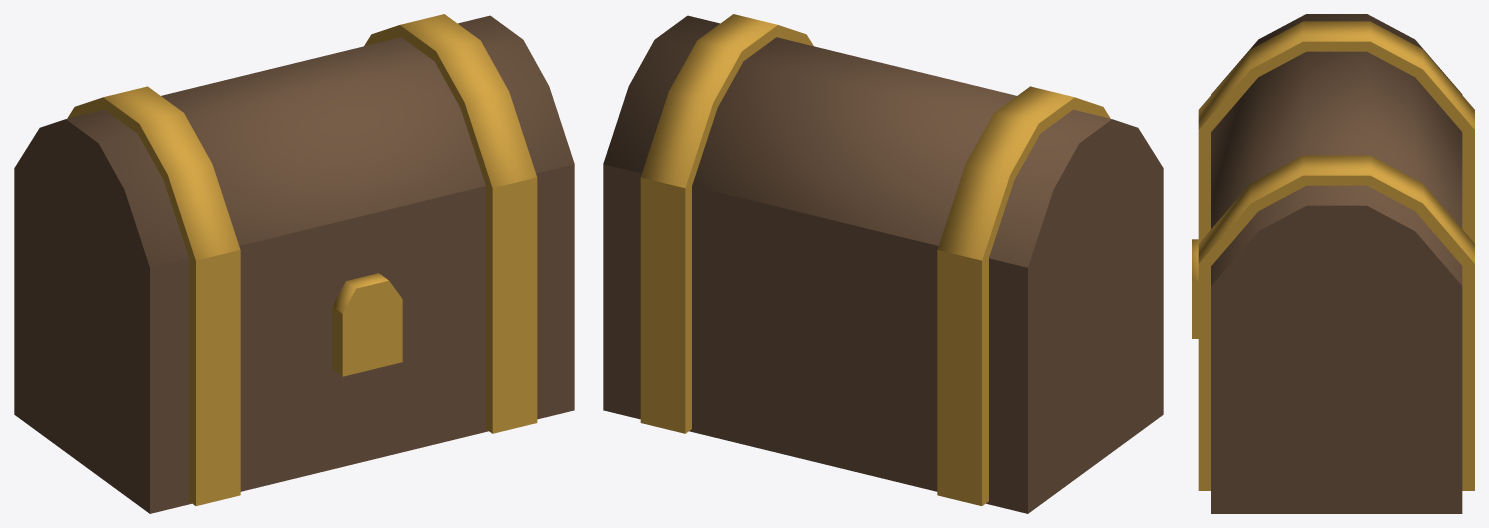
Rendered from chest.gltf.
3 views of the same model, side by side, from view 1: azimuth 30°, elevation 25°; view 2: azimuth 150°, elevation 25°; view 3: azimuth 270°, elevation 25° (orthographic). The views are drawn at different scales.
Parts seen in each view (by area): view 1: Cube, Cube.002, Cube.001, Cube.003; view 2: Cube, Cube.002, Cube.001; view 3: Cube, Cube.002, Cube.001, Cube.003.
Part boxes in pixels (box(x1,y1,x2,y2)): Cube: box(14, 15, 574, 513); Cube.002: box(364, 14, 537, 433); Cube.001: box(67, 86, 240, 505); Cube.003: box(332, 273, 402, 376); Cube: box(603, 15, 1163, 513); Cube.002: box(640, 14, 813, 433); Cube.001: box(937, 86, 1110, 505); Cube: box(1211, 14, 1462, 513); Cube.002: box(1198, 155, 1474, 490); Cube.001: box(1198, 21, 1474, 243); Cube.003: box(1192, 239, 1201, 338).
Bounding box in the file's own units: 0.7781 × 0.6025 × 0.4849.
